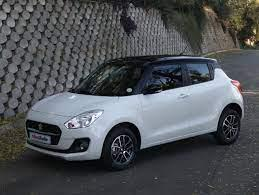Hatchback: (25, 54, 244, 169)
